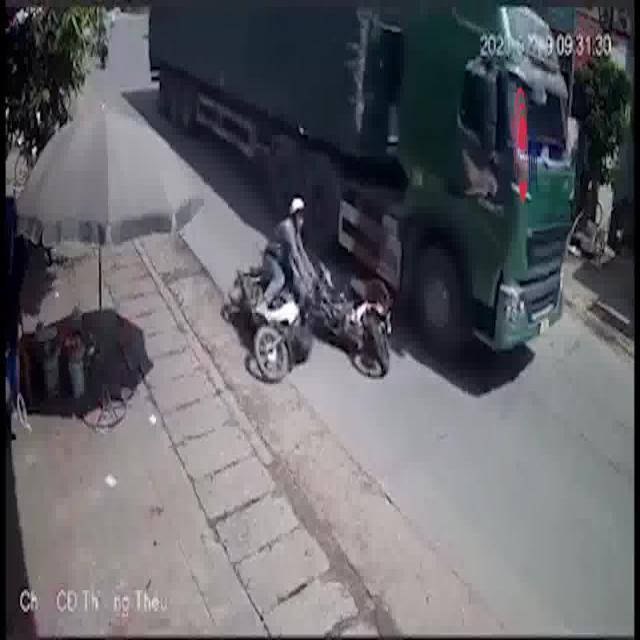multiple_accident: (217, 54, 495, 393)
